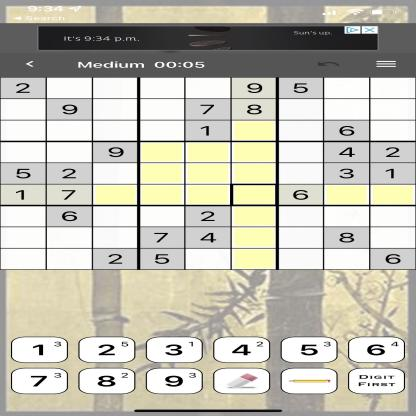sudoku: (0, 76, 416, 271)
